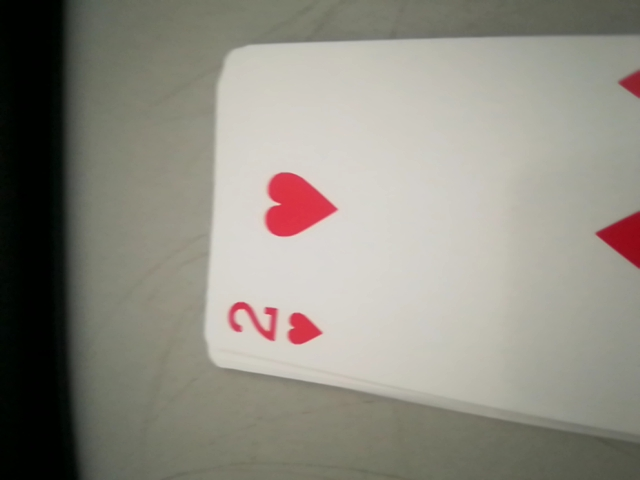hx 2: (217, 290, 344, 359)
